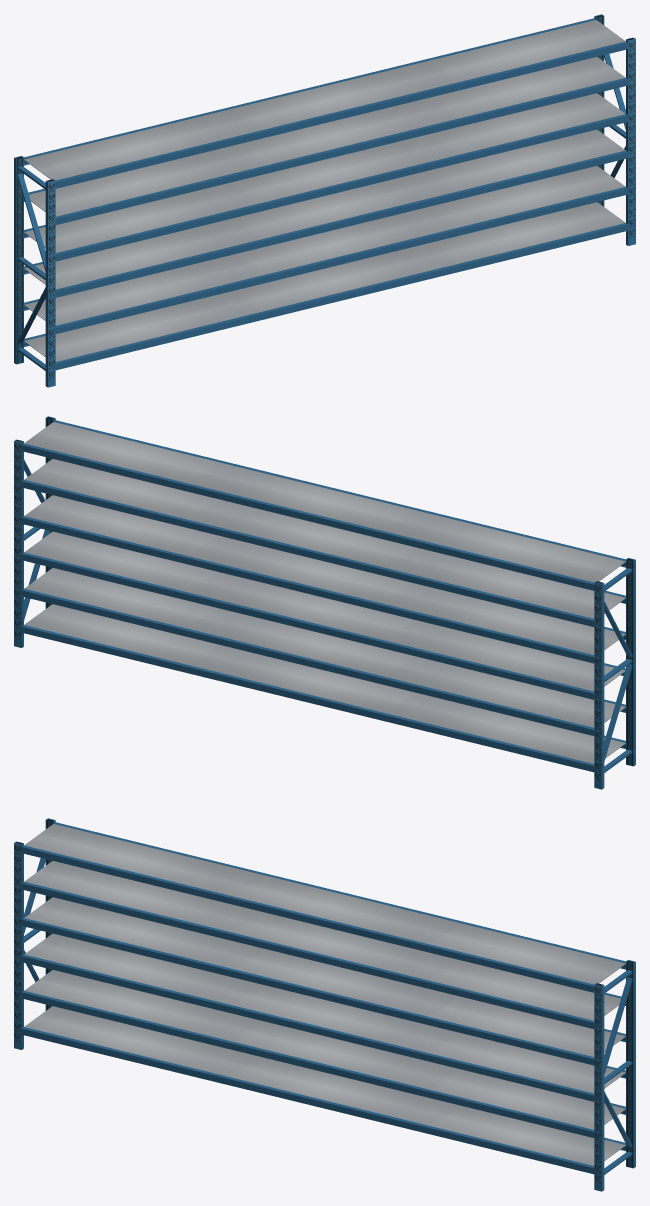
The model's file is myModel.obj.
3 renders of one model, top to bottom at view 1: azimuth 30°, elevation 25°; view 2: azimuth 150°, elevation 25°; view 3: azimuth 330°, elevation 25°, orthographic.
Parts seen in each view (by area): view 1: Mesh2; view 2: Mesh2; view 3: Mesh2.
Boxes of the visible parts, box(x1,y1,x2,y2) form: Mesh2: box(14, 14, 635, 387); Mesh2: box(14, 416, 635, 789); Mesh2: box(14, 818, 635, 1191).
Size of the model in its own units: 6000 by 2000 by 600.
Materials: 1 (1 with a texture image).
